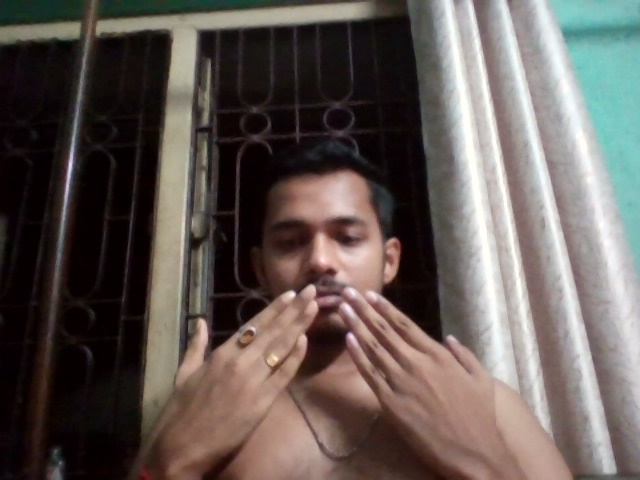Thankyou: (166, 276, 514, 467)
